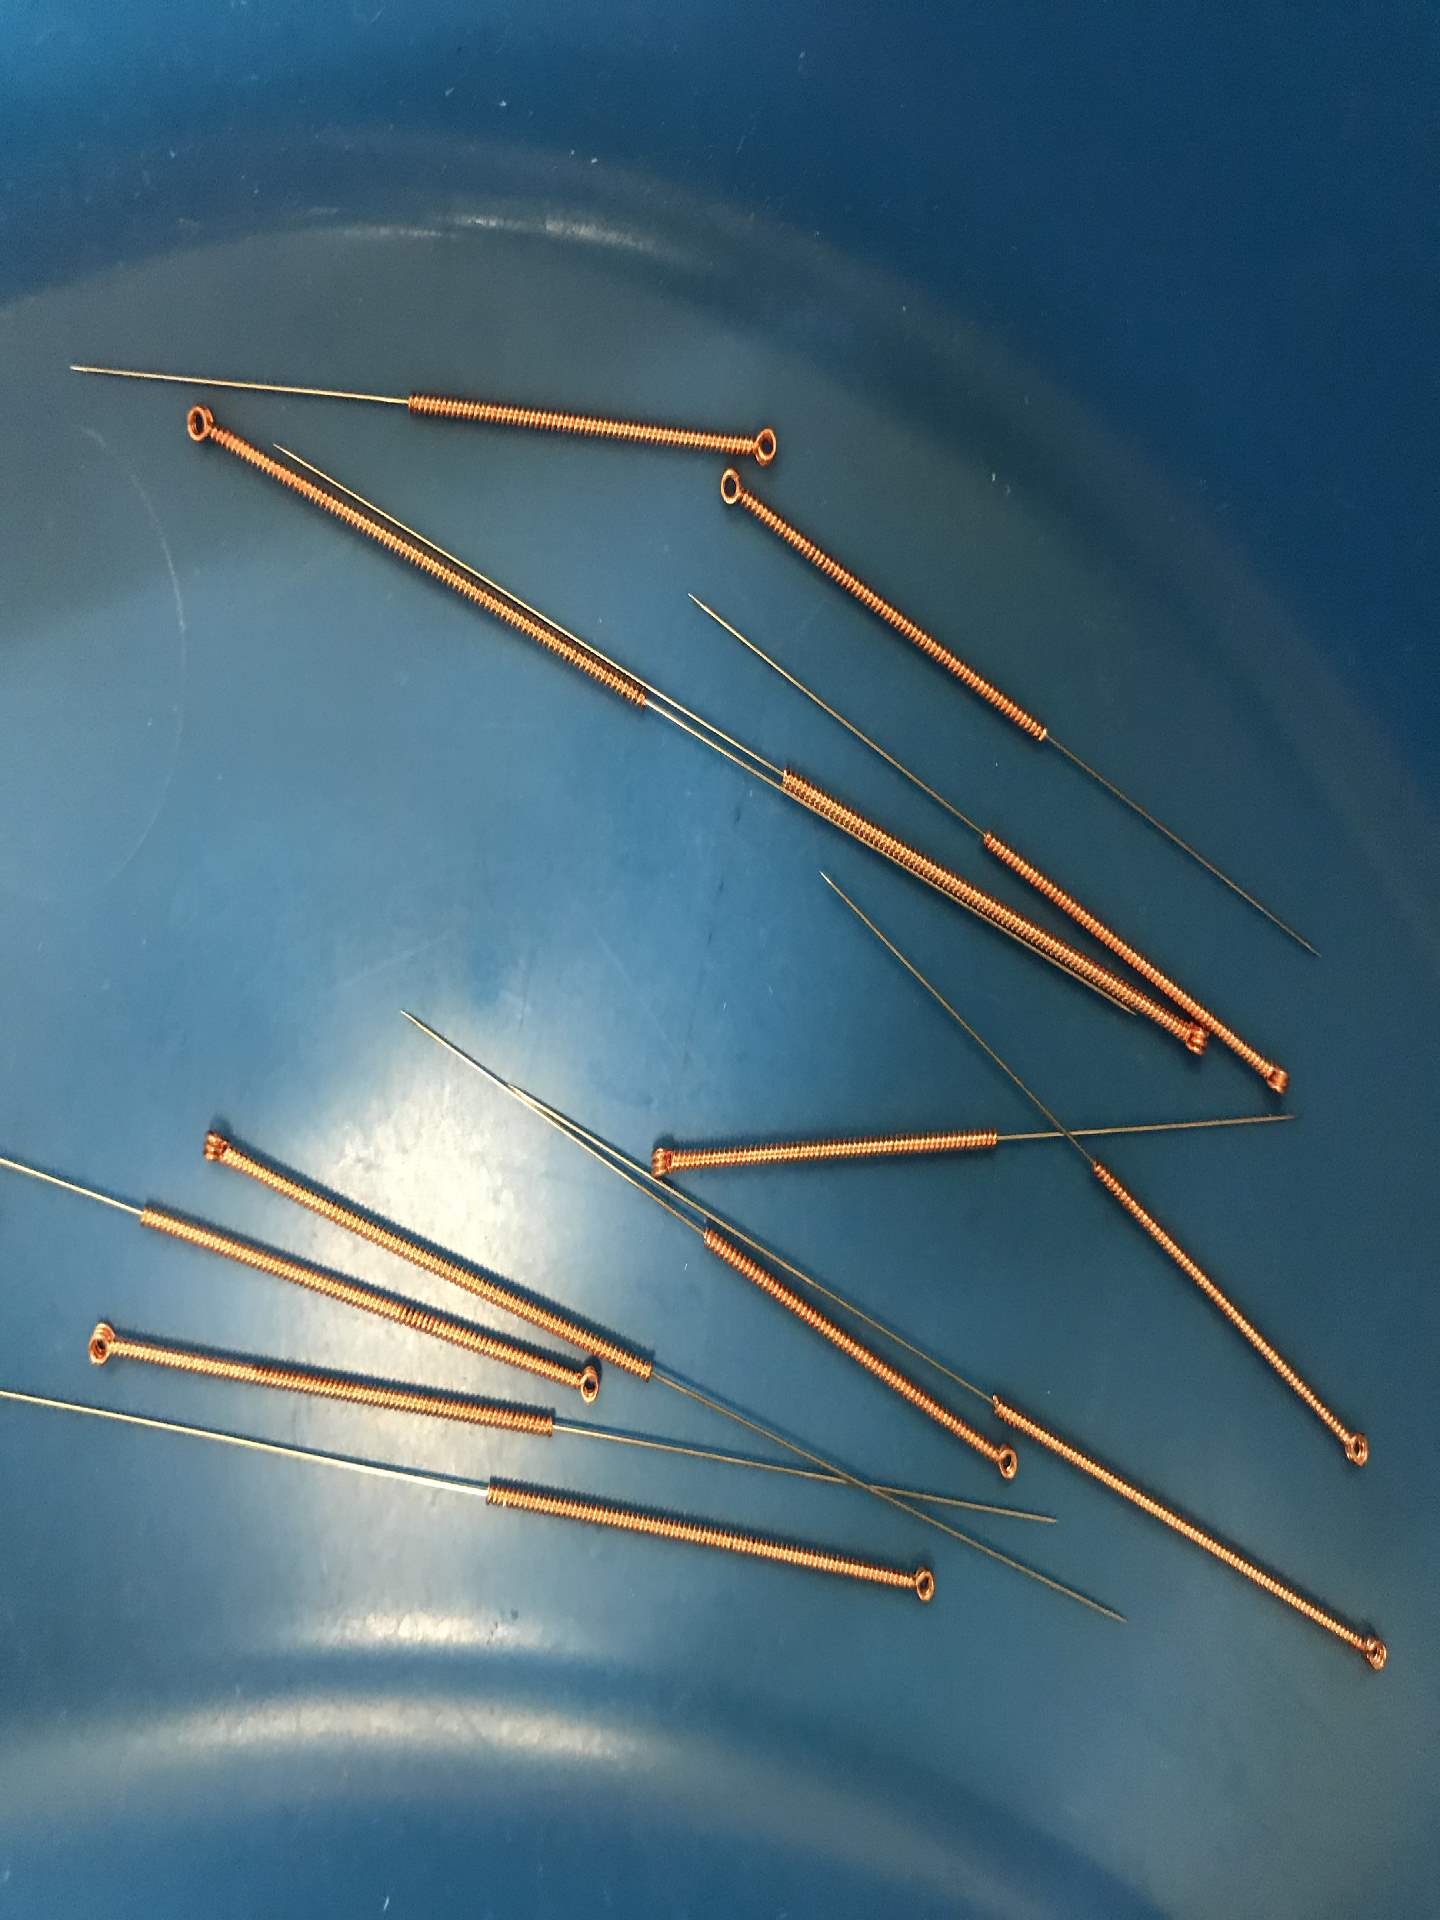needle: (73, 1311, 129, 1380), (168, 396, 233, 452), (1328, 1415, 1379, 1482), (1246, 1048, 1302, 1107), (1342, 1621, 1398, 1680), (971, 1433, 1029, 1488), (895, 1556, 947, 1616), (706, 463, 758, 522), (637, 1132, 697, 1182), (1162, 1017, 1215, 1073), (191, 1114, 239, 1175), (737, 420, 791, 472), (561, 1353, 608, 1407)
